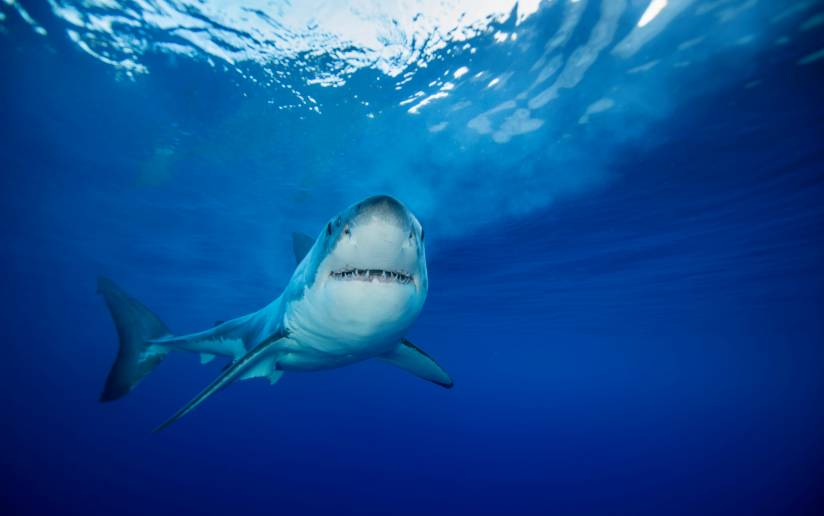shark: (94, 192, 461, 435)
